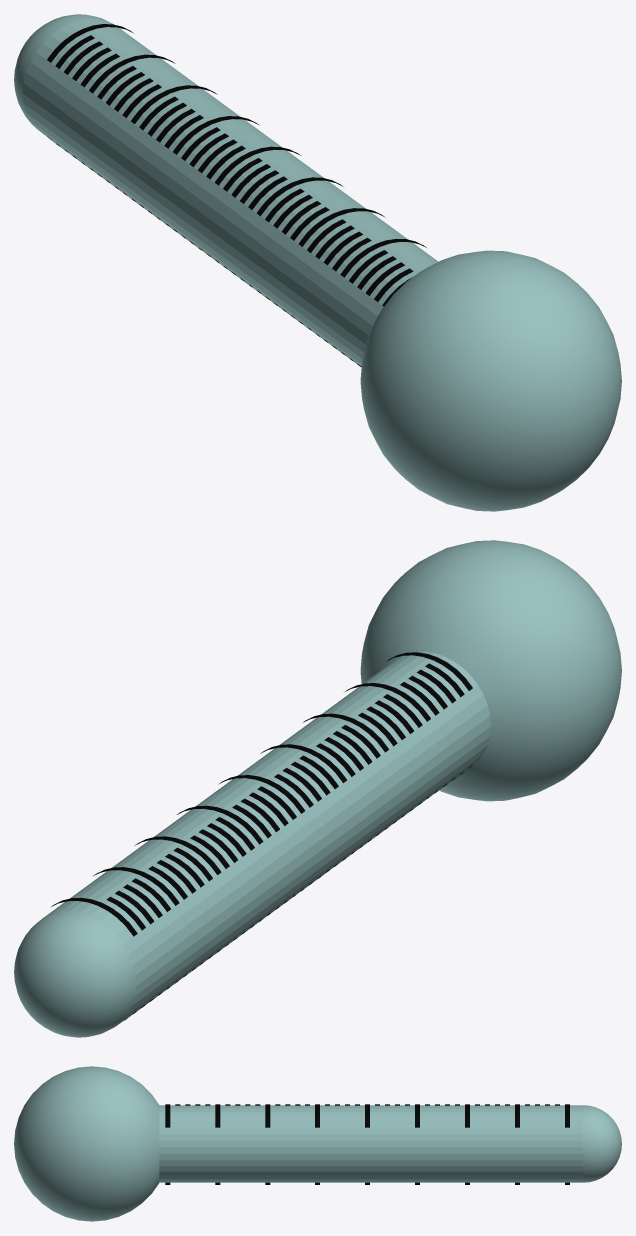
Rendered from 온도계.FBX.
3 renders of one model, top to bottom at view 1: azimuth 30°, elevation 25°; view 2: azimuth 150°, elevation 25°; view 3: azimuth 270°, elevation 25°, orthographic. The views are drawn at different scales.
Visible parts, largest first — view 1: 4; view 2: 4; view 3: 4.
Part boxes in pixels (x1=…): 4: x1=14, y1=14, x2=621, y2=511; 4: x1=14, y1=540, x2=621, y2=1037; 4: x1=14, y1=1066, x2=621, y2=1221.
Bounding box in the file's own units: 47.55 × 47.55 × 185.
